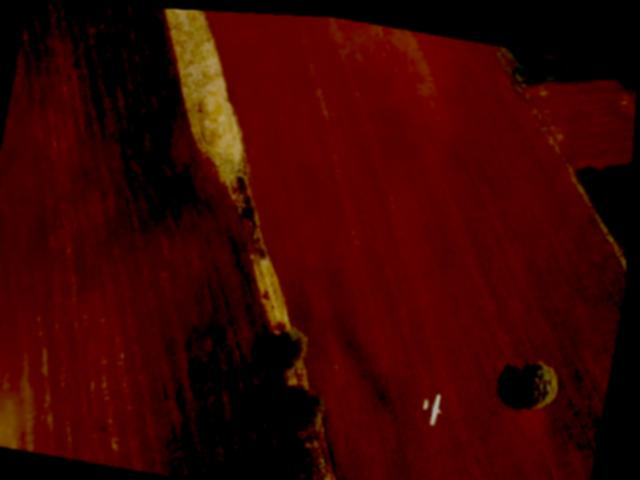uav: (418, 379, 456, 426)
